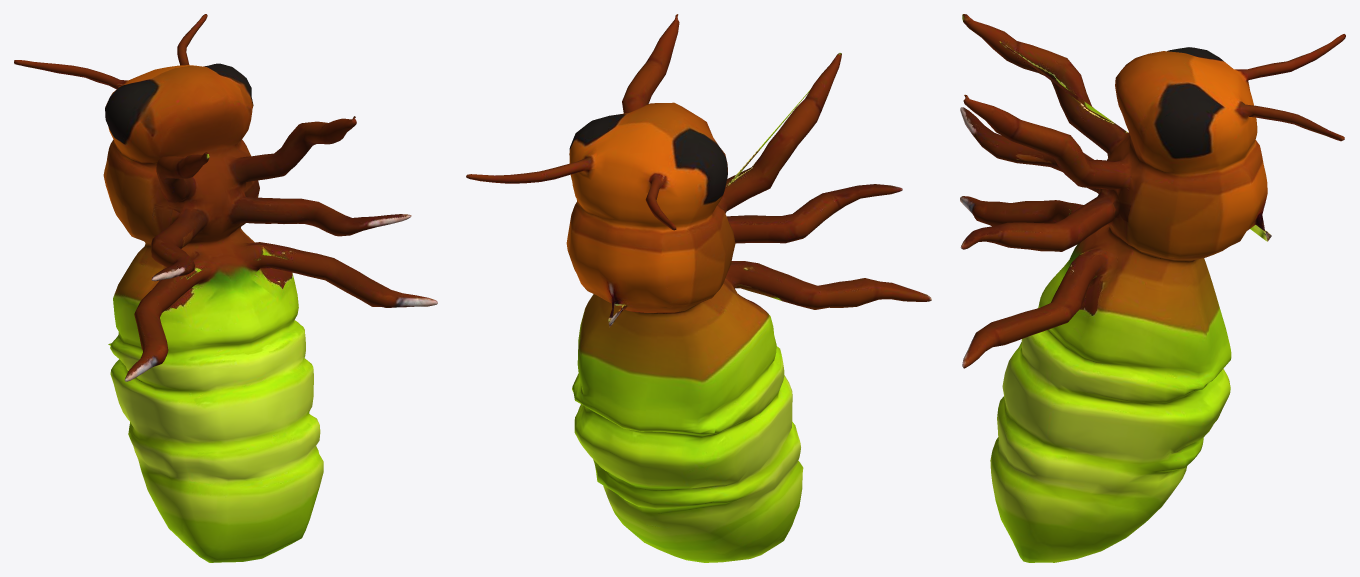
Rendered from Akuchu.glb.
The picture shows the model from 3 angles, left to right: view 1: azimuth 30°, elevation 25°; view 2: azimuth 150°, elevation 25°; view 3: azimuth 270°, elevation 25°; orthographic projection. The views are drawn at different scales.
Visible parts, largest first — view 1: Retopo_akuchu.002; view 2: Retopo_akuchu.002; view 3: Retopo_akuchu.002.
Part boxes in pixels (x1=…): Retopo_akuchu.002: x1=14, y1=14, x2=437, y2=562; Retopo_akuchu.002: x1=466, y1=14, x2=931, y2=562; Retopo_akuchu.002: x1=960, y1=14, x2=1345, y2=562.
Size of the model in its own units: 1.45 by 1.97 by 1.39.
1 material, 1 textured.
